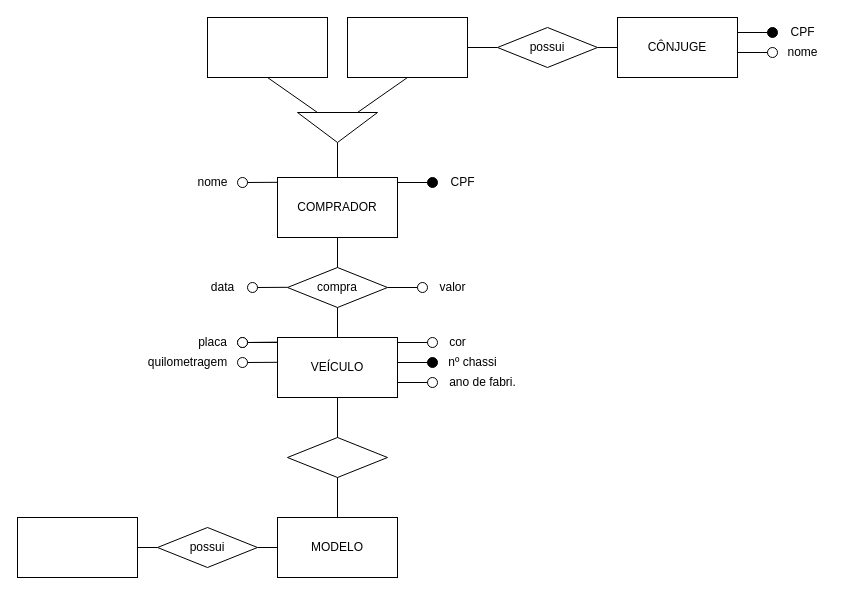
Image size: 845x595. Some labels were removed from this diagram. Here are the shapes that lost their labels. From the top down, the box of each, then its label:
(206, 16, 328, 78): COMPRADOR SOLTEIRO
(346, 16, 468, 78): COMPRADOR CASADO
(286, 436, 388, 478): pertence
(16, 516, 138, 578): MARCA
